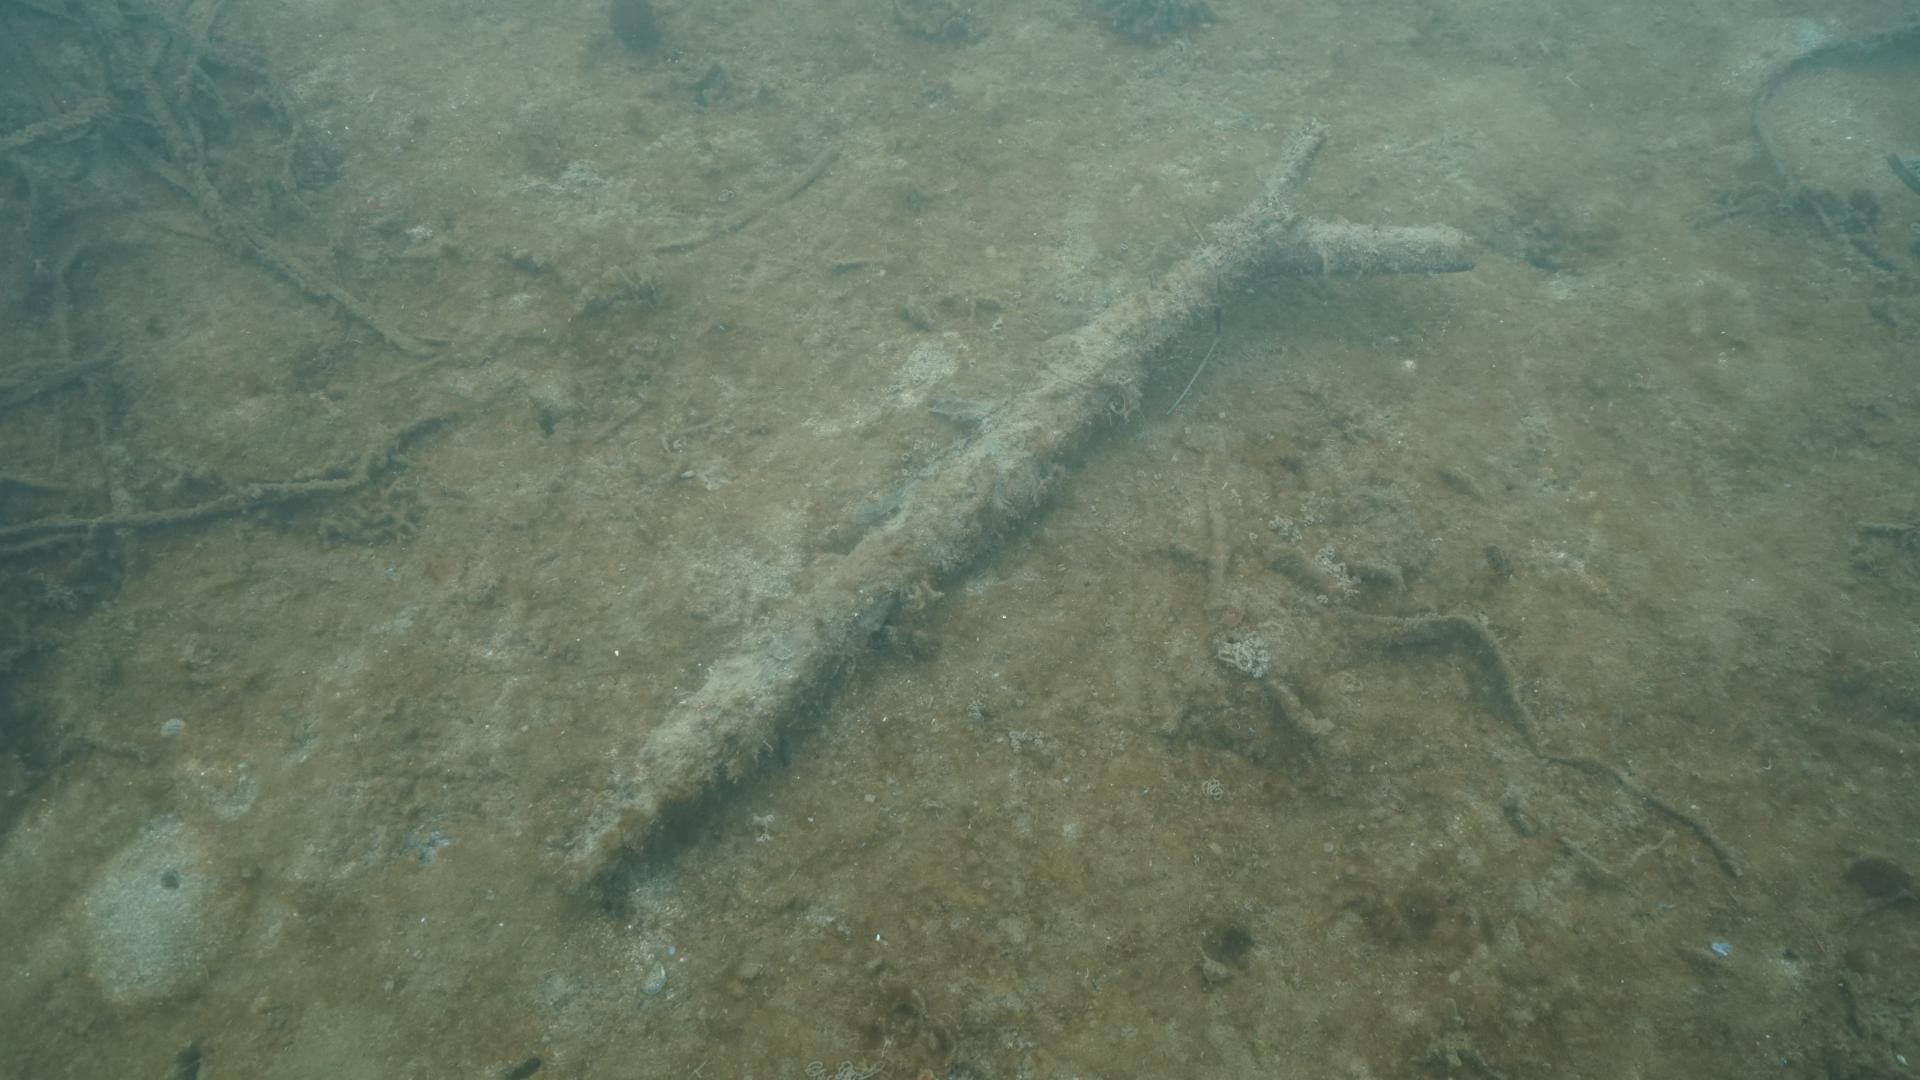wood: (550, 117, 1476, 903)
